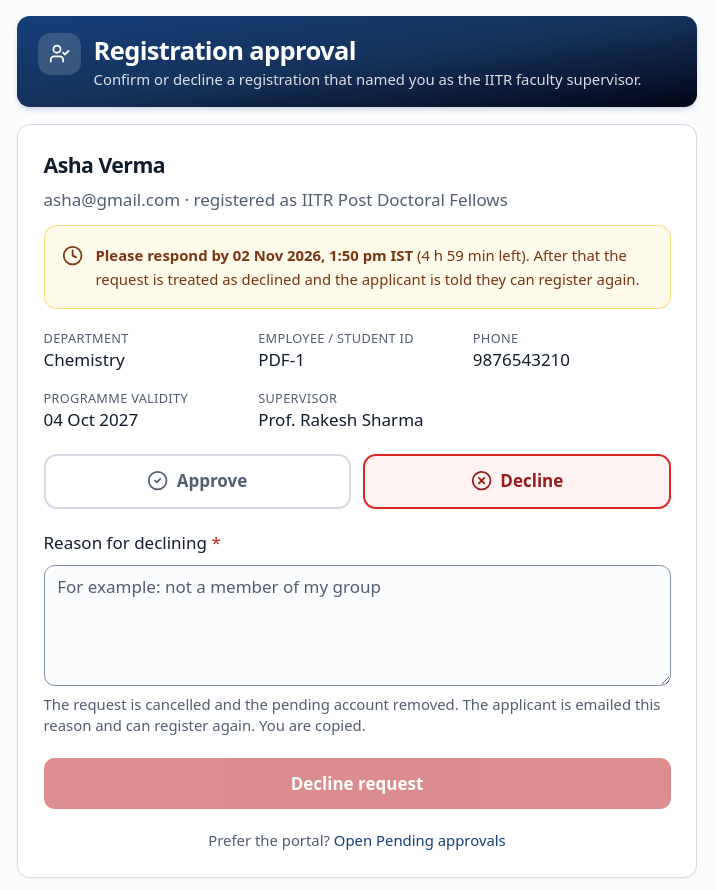
Test case: Registration decision from the faculty email › opens on Decline from the email button and requires a reason
Check: the button "Decline request" is disabled, box [44, 758, 670, 809]
Type "Not in my group" into the text box labelled "Reason for declining *" at coordinates (357, 625), box [44, 565, 670, 686]
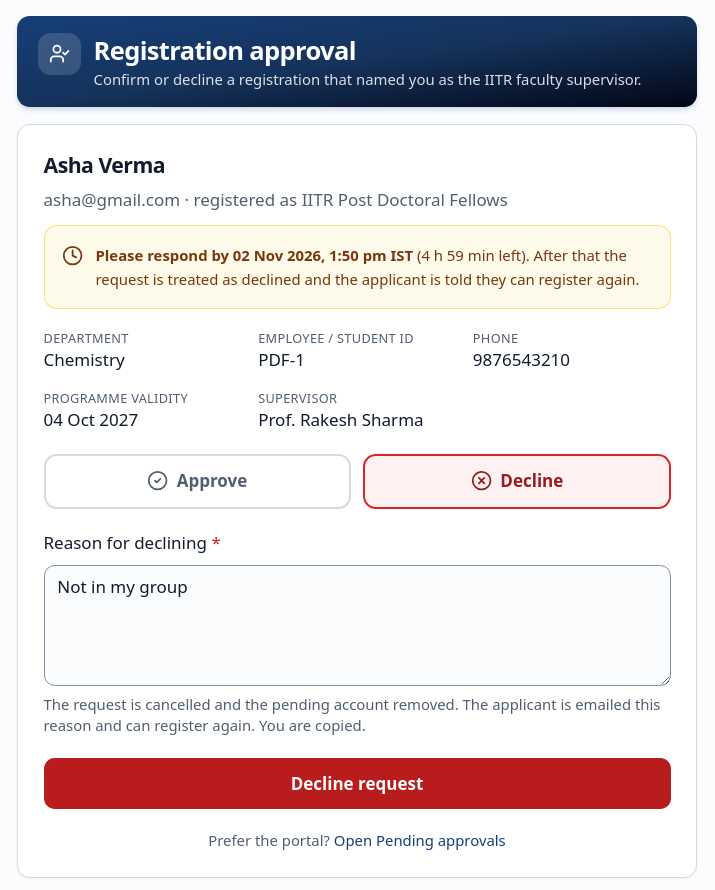
Click the button "Decline request" at coordinates (357, 783), box [44, 758, 670, 809]
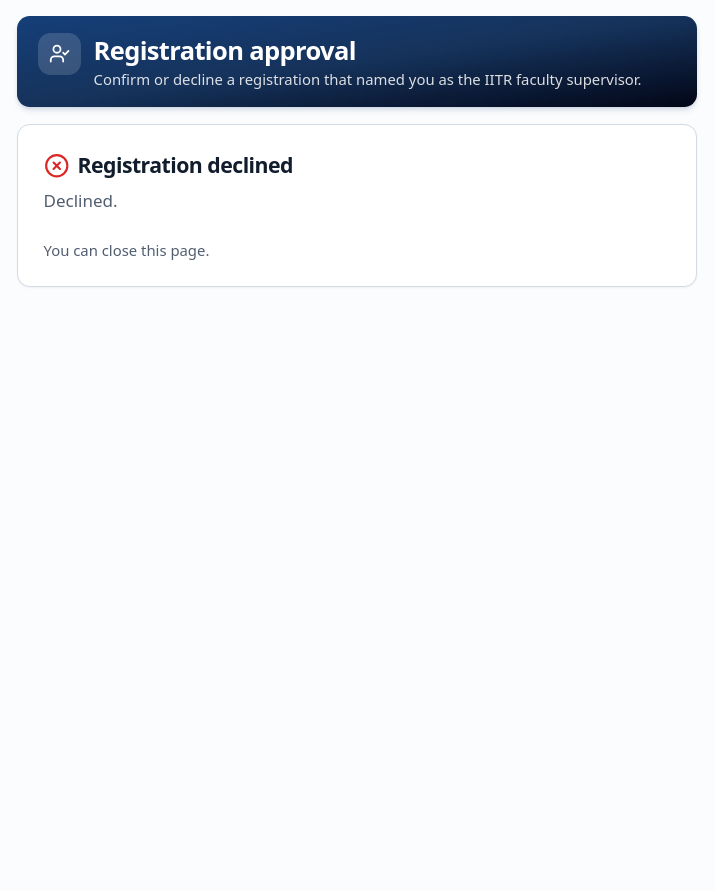
Check: the text "Registration declined" is shown, box [44, 150, 293, 179]
